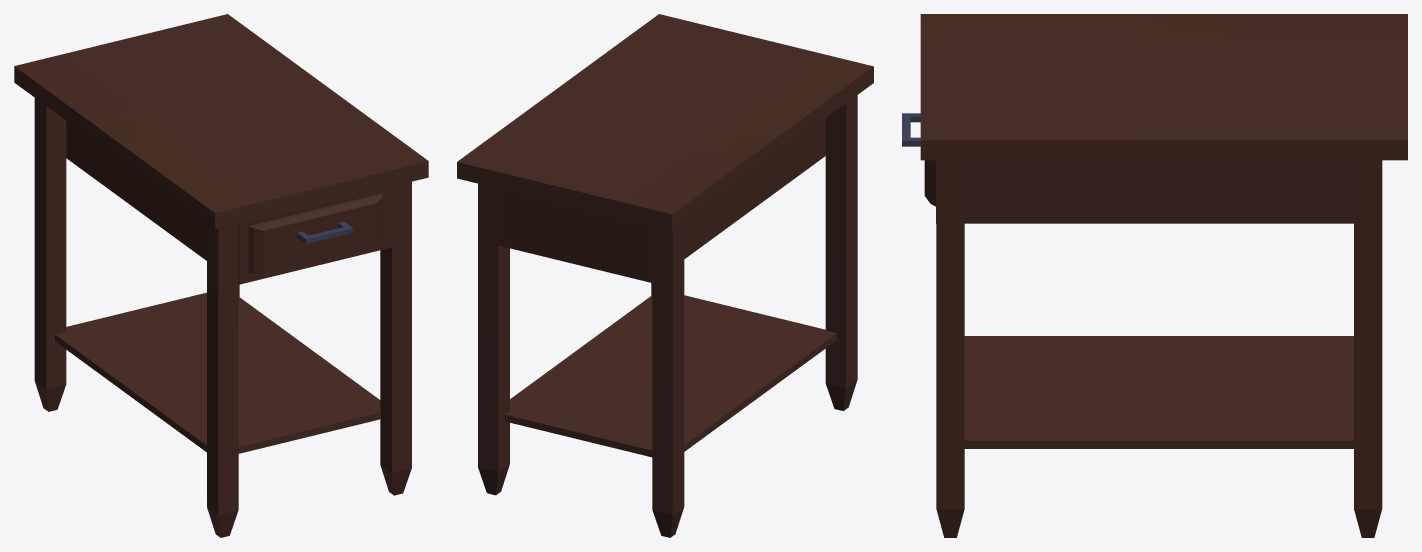
File: endtable-BWGyUfRM.glb
The picture shows the model from 3 angles, left to right: view 1: azimuth 30°, elevation 25°; view 2: azimuth 150°, elevation 25°; view 3: azimuth 270°, elevation 25°; orthographic projection. The views are drawn at different scales.
Parts seen in each view (by area): view 1: End Table; view 2: End Table; view 3: End Table.
Part boxes in pixels (left/top/right/bottom): End Table: left=14, top=14, right=428, bottom=537; End Table: left=457, top=14, right=873, bottom=537; End Table: left=902, top=14, right=1407, bottom=537.
Size of the model in its own units: 0.3155 by 0.4737 by 0.5335.
Materials: 1 (1 with a texture image).
